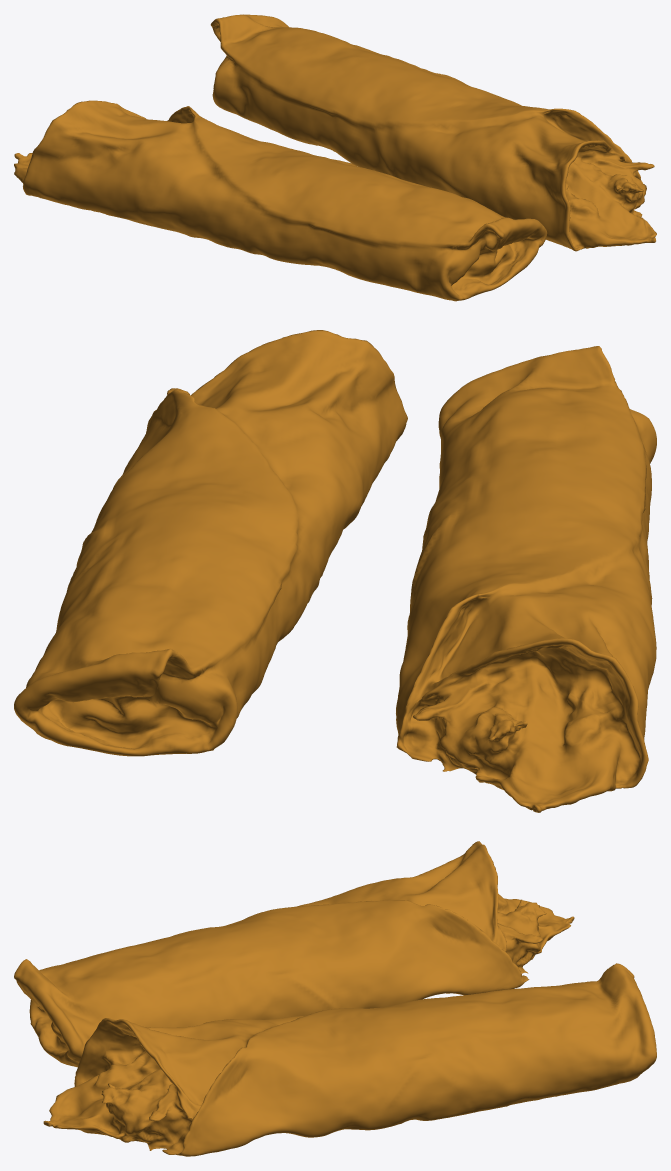
3 views of the same model, one above another, from view 1: azimuth 30°, elevation 25°; view 2: azimuth 150°, elevation 25°; view 3: azimuth 270°, elevation 25° (orthographic). The views are drawn at different scales.
Parts seen in each view (by area): view 1: AM150_042_001, AM150_042_002; view 2: AM150_042_001, AM150_042_002; view 3: AM150_042_002, AM150_042_001.
Boxes of the visible parts, bbox=[...] form: AM150_042_001: bbox=[14, 100, 547, 301]; AM150_042_002: bbox=[210, 14, 656, 251]; AM150_042_001: bbox=[396, 346, 656, 812]; AM150_042_002: bbox=[14, 330, 407, 756]; AM150_042_002: bbox=[43, 963, 656, 1156]; AM150_042_001: bbox=[14, 841, 574, 1067].
Size of the model in its own units: 20.37 by 3.69 by 22.23.
